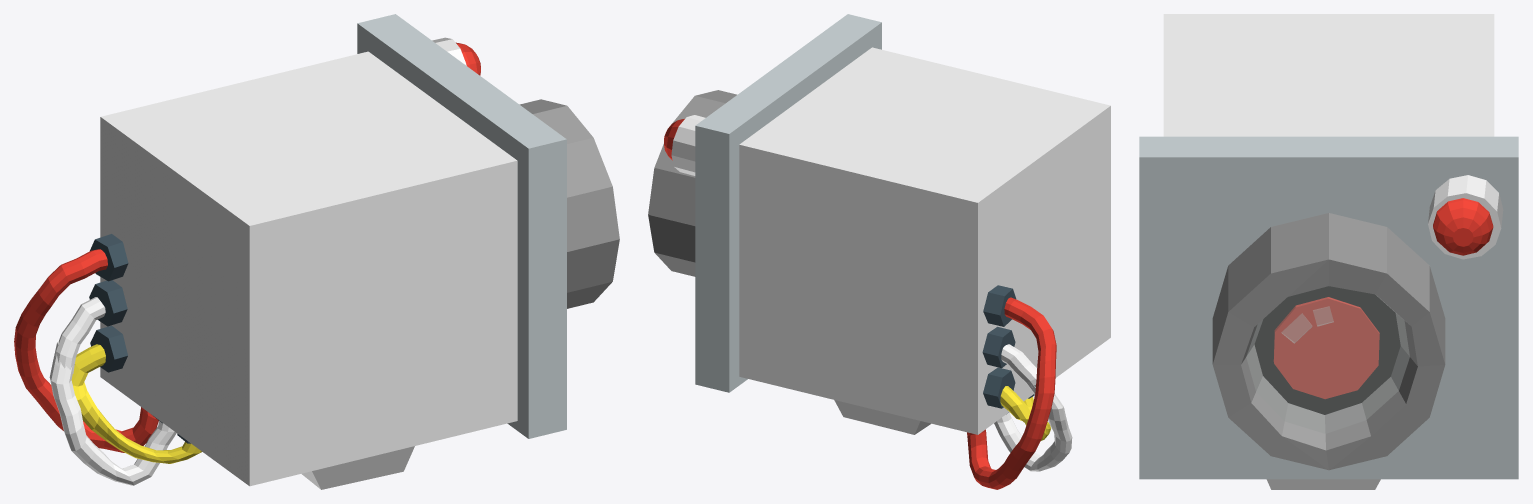
Rendered from scene_k3WcEXmp1p.glb.
The picture shows the model from 3 angles, left to right: view 1: azimuth 30°, elevation 25°; view 2: azimuth 150°, elevation 25°; view 3: azimuth 270°, elevation 25°; orthographic projection. The views are drawn at different scales.
Visible parts, largest first — view 1: group374308588, group2020217581, group883915885, group1151453221, group686418231, group758870529, group1744903847, group516362893, group1546642677, group1025305836, group1062555666; view 2: group374308588, group2020217581, group883915885, group1151453221, group686418231, group1744903847, group1070797483, group1062555666, group516362893, group1546642677, group1025305836, group758870529; view 3: group2020217581, group374308588, group883915885, group1407408460, group1651366612, group1769429057, group1010099057, group1070797483, group1744903847, group481720167.
Boxes of the visible parts, left/top/right/bottom form: group374308588: left=100, top=51, right=517, bottom=486; group2020217581: left=357, top=14, right=566, bottom=438; group883915885: left=519, top=99, right=619, bottom=308; group1151453221: left=14, top=249, right=158, bottom=452; group686418231: left=49, top=340, right=176, bottom=485; group758870529: left=71, top=344, right=201, bottom=463; group1744903847: left=301, top=446, right=414, bottom=489; group516362893: left=55, top=297, right=105, bottom=373; group1546642677: left=89, top=280, right=127, bottom=326; group1025305836: left=90, top=325, right=127, bottom=372; group1062555666: left=90, top=234, right=128, bottom=281; group374308588: left=739, top=47, right=1110, bottom=434; group2020217581: left=695, top=14, right=881, bottom=392; group883915885: left=648, top=90, right=736, bottom=276; group1151453221: left=967, top=297, right=1056, bottom=489; group686418231: left=994, top=385, right=1072, bottom=471; group1744903847: left=834, top=400, right=930, bottom=434; group1070797483: left=671, top=115, right=705, bottom=175; group1062555666: left=983, top=285, right=1016, bottom=326; group516362893: left=1001, top=344, right=1036, bottom=395; group1546642677: left=982, top=326, right=1015, bottom=368; group1025305836: left=983, top=367, right=1015, bottom=408; group758870529: left=1000, top=386, right=1050, bottom=440; group2020217581: left=1139, top=136, right=1518, bottom=479; group374308588: left=1163, top=14, right=1494, bottom=136; group883915885: left=1212, top=213, right=1445, bottom=470; group1407408460: left=1246, top=286, right=1409, bottom=433; group1651366612: left=1273, top=297, right=1379, bottom=398; group1769429057: left=1254, top=286, right=1400, bottom=414; group1010099057: left=1433, top=198, right=1493, bottom=255; group1070797483: left=1428, top=175, right=1503, bottom=259; group1744903847: left=1266, top=479, right=1380, bottom=489; group481720167: left=1281, top=313, right=1311, bottom=343.
Size of the model in its own units: 0.498 by 0.3502 by 0.31.
